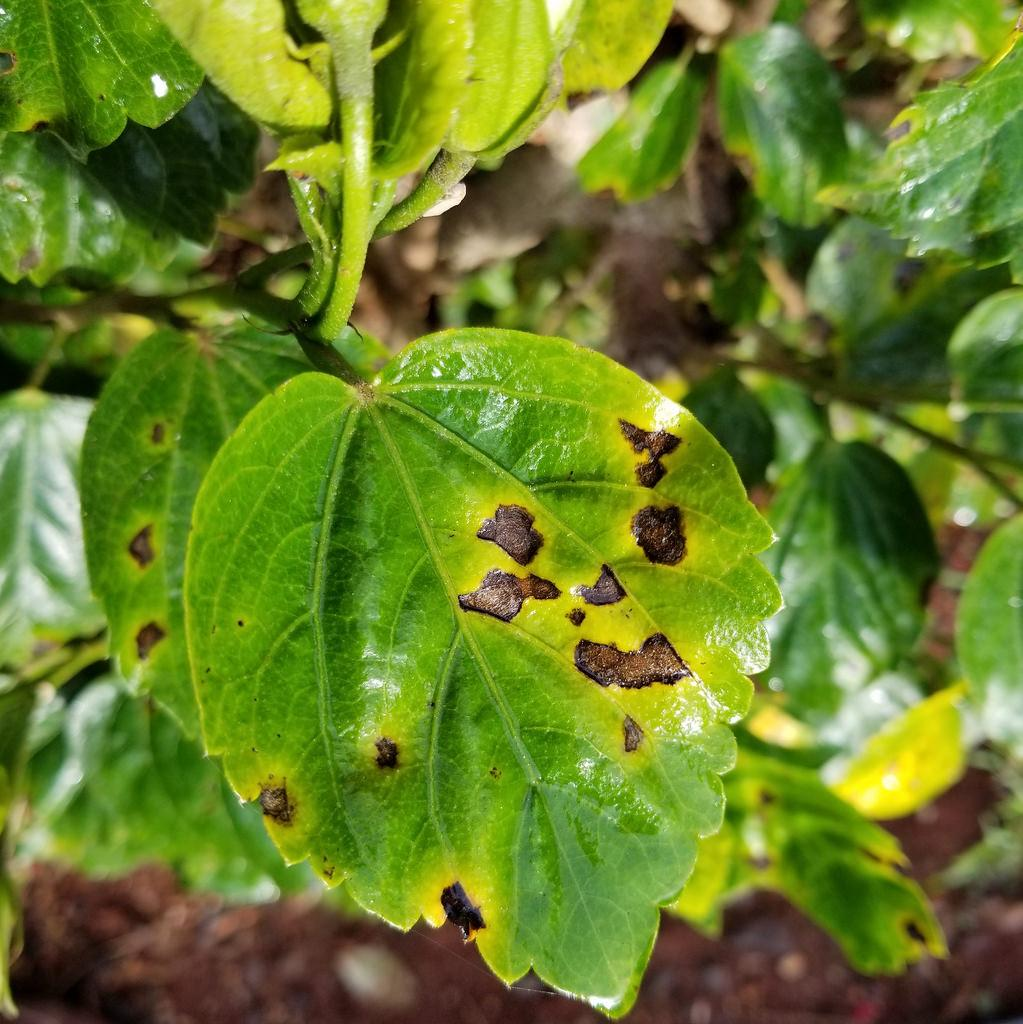Tomato leaf late blight: (193, 326, 801, 994)
